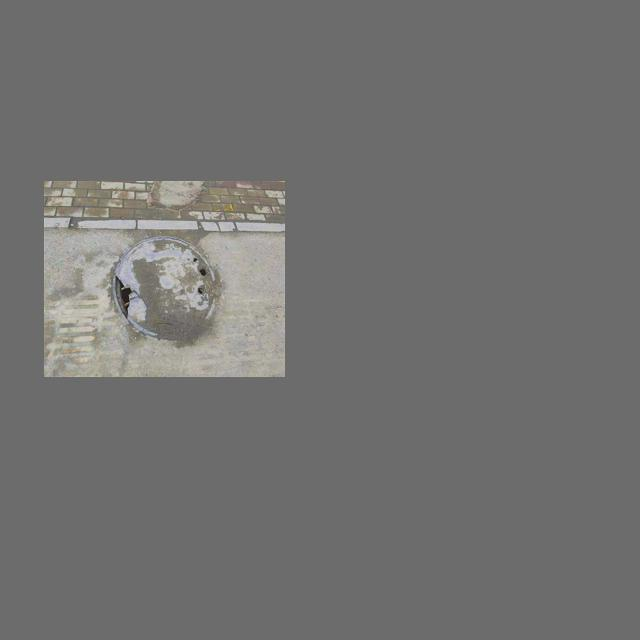broke: (112, 239, 218, 337)
